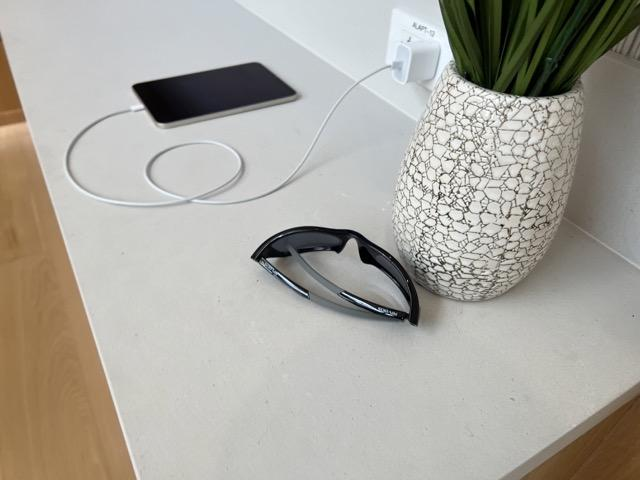Sunglasses: (250, 225, 421, 328)
